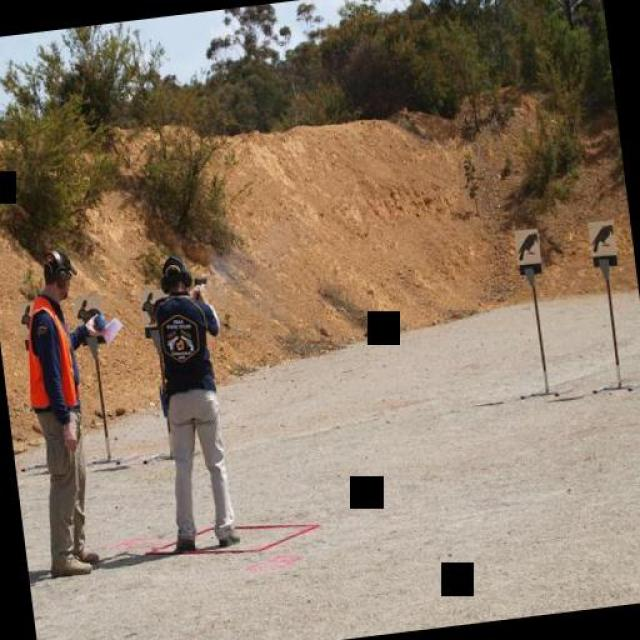gun: (190, 267, 211, 295)
